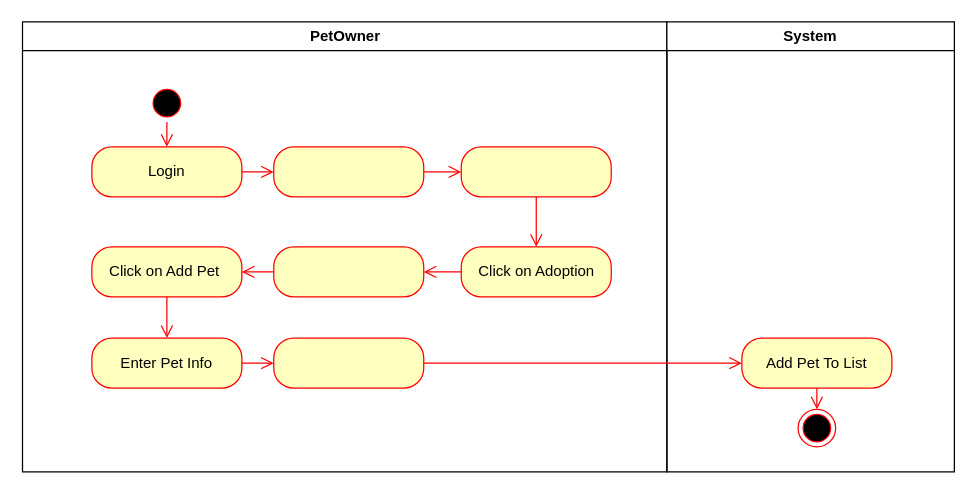
This 976x494 diagram has some shape labels left out. Each missing label, with the centre of its shape:
"Click Menu" goes at (x=535, y=171).
"Click on My Adoptions" goes at (x=348, y=271).
"Click on Submit" goes at (x=348, y=362).
"See Dashboard" goes at (x=348, y=171).
